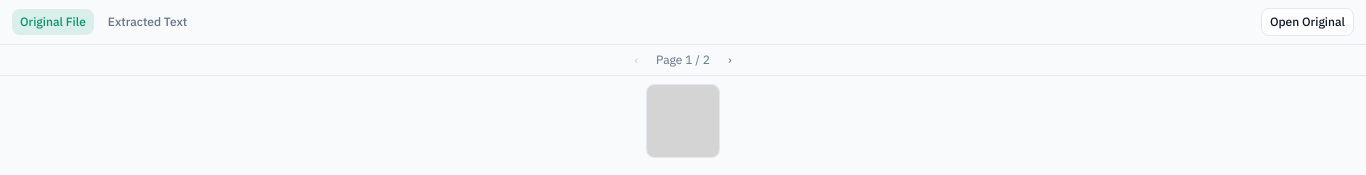
Scenario: SourcePreviewPane file view (D-027) › shows a pager for multi-page pdfs and switches pages
The width and height of the screenshot is (1366, 175).
Check: the text "Page 1 / 2" is shown, box x1=656 y1=51 x2=710 y2=69
Click the button named "Next page". click: click(730, 60)
box: x1=722 y1=51 x2=738 y2=69
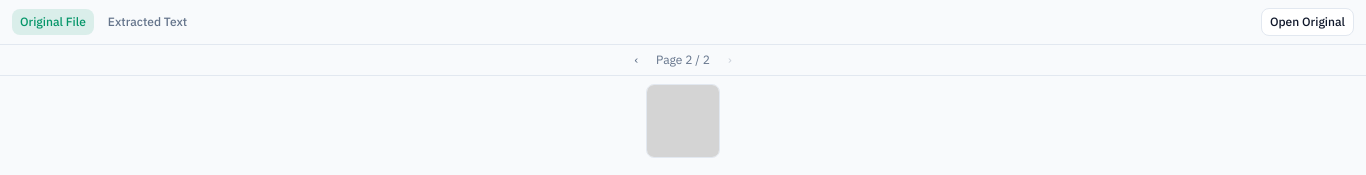
Check: the button named "Previous page" is enabled, box x1=628 y1=51 x2=644 y2=69
Check: the text "Page 2 / 2" is shown, box x1=656 y1=51 x2=710 y2=69
